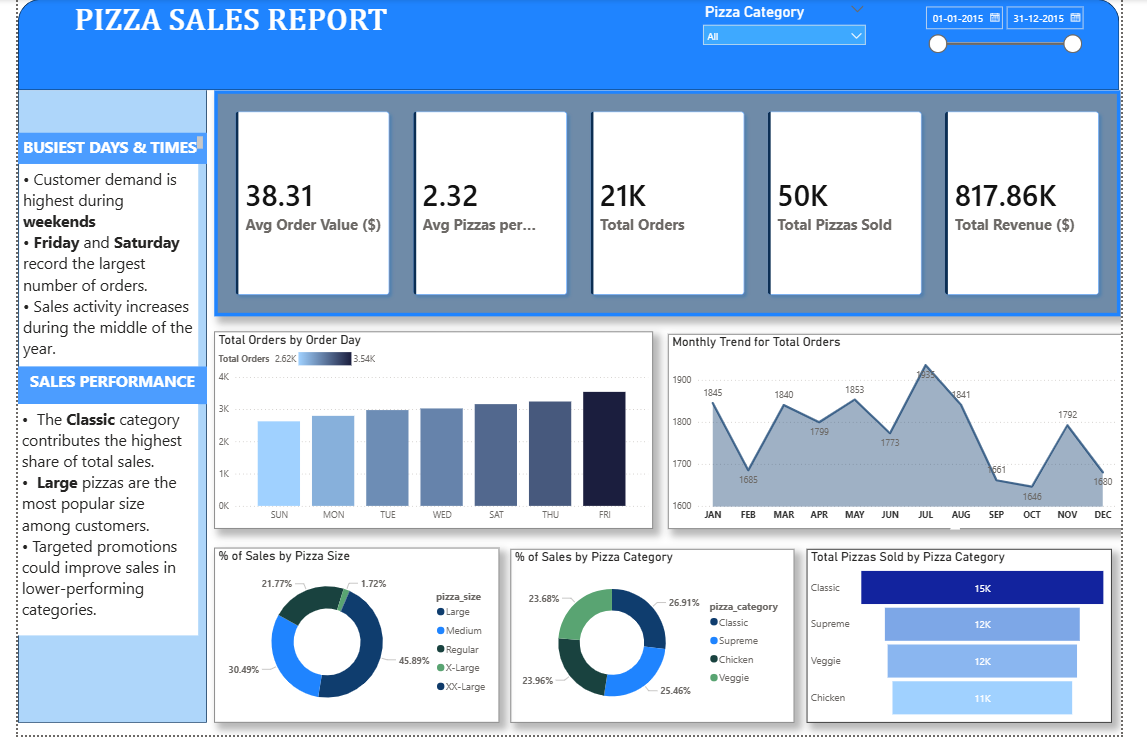

Layout of this report page (visuals, bound fields, positions):
{"tool":"powerbi","page":{"name":"Home","canvas":[1500,1000],"ordinal":0},"visuals":[{"type":"cardVisual","fields":{"Data":["pizza_sales.Avg Order Value","pizza_sales.Avg Pizzas per Order","pizza_sales.Total Orders","pizza_sales.Total Pizzas","pizza_sales.Total Revenue"]},"box":[266.6,124,1231.3,307.4],"z":0},{"type":"columnChart","fields":{"Category":["pizza_sales.Order Day"],"Y":["pizza_sales.Total Orders"]},"box":[266.6,451.8,596.1,268.3],"z":1000},{"type":"areaChart","title":"Monthly Trend for Total Orders","fields":{"Category":["pizza_sales.Order Month"],"Y":["pizza_sales.Total Orders"]},"box":[883.2,455.2,616.5,264.9],"z":2000},{"type":"qnaVisual","box":[1267.1,705.7,12.9,14.3],"z":3000},{"type":"donutChart","title":"% of Sales by  Pizza Category","fields":{"Category":["pizza_sales.pizza_category"],"Y":["pizza_sales.Total Revenue ($)"]},"box":[669.2,747.3,385.5,236.1],"z":4000},{"type":"donutChart","title":"% of Sales by  Pizza Size","fields":{"Category":["pizza_sales.pizza_size"],"Y":["pizza_sales.Total Revenue ($)"]},"box":[266.1,746.4,387.5,237.5],"z":5000},{"type":"funnel","title":"Total Pizzas Sold by Pizza Category","fields":{"Category":["pizza_sales.pizza_category"],"Y":["pizza_sales.Total Pizzas Sold"]},"box":[1071.7,747.3,414.4,236.1],"z":6000},{"type":"shape","box":[0,0,256.5,983.4],"z":7000},{"type":"textbox","box":[0,181.7,256.5,42.5],"z":8000},{"type":"textbox","box":[1.7,224.2,242.9,275.1],"z":9000},{"type":"textbox","box":[0,499.3,256.5,51],"z":10000},{"type":"textbox","box":[0,550.3,244.6,314.2],"z":11000},{"type":"shape","box":[0,0,1496.3,124],"z":12000},{"type":"slicer","fields":{"Values":["pizza_sales.pizza_category"]},"box":[920.5,0,241.2,98.5],"z":13000},{"type":"slicer","fields":{"Values":["pizza_sales.order_date"]},"box":[1221.1,0,232.7,98.5],"z":14000},{"type":"textbox","title":"PIZZA SALES REPORT","box":[71.3,5.1,450.1,118.9],"z":15000}]}

Visuals, with their boxes on the page's 1500x1000 design canvas (x1, y1, x2, y2). These are canvas units, not pixel positions in the 1147x738 screenshot, which may show the page scaled, cropped or inside an application window:
cardVisual - pizza_sales.Avg Order Value x pizza_sales.Avg Pizzas per Order: {"x1": 267, "y1": 124, "x2": 1498, "y2": 431}
columnChart - pizza_sales.Order Day x pizza_sales.Total Orders: {"x1": 267, "y1": 452, "x2": 863, "y2": 720}
"Monthly Trend for Total Orders" areaChart: {"x1": 883, "y1": 455, "x2": 1500, "y2": 720}
qnaVisual: {"x1": 1267, "y1": 706, "x2": 1280, "y2": 720}
"% of Sales by  Pizza Category" donutChart: {"x1": 669, "y1": 747, "x2": 1055, "y2": 983}
"% of Sales by  Pizza Size" donutChart: {"x1": 266, "y1": 746, "x2": 654, "y2": 984}
"Total Pizzas Sold by Pizza Category" funnel: {"x1": 1072, "y1": 747, "x2": 1486, "y2": 983}
shape: {"x1": 0, "y1": 0, "x2": 256, "y2": 983}
textbox: {"x1": 0, "y1": 182, "x2": 256, "y2": 224}
textbox: {"x1": 2, "y1": 224, "x2": 245, "y2": 499}
textbox: {"x1": 0, "y1": 499, "x2": 256, "y2": 550}
textbox: {"x1": 0, "y1": 550, "x2": 245, "y2": 864}
shape: {"x1": 0, "y1": 0, "x2": 1496, "y2": 124}
slicer - pizza_sales.pizza_category: {"x1": 920, "y1": 0, "x2": 1162, "y2": 98}
slicer - pizza_sales.order_date: {"x1": 1221, "y1": 0, "x2": 1454, "y2": 98}
"PIZZA SALES REPORT" textbox: {"x1": 71, "y1": 5, "x2": 521, "y2": 124}
